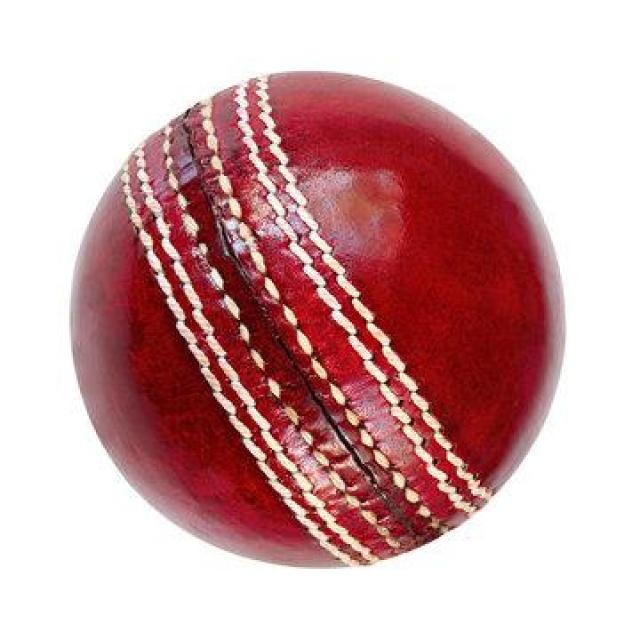ball: (73, 71, 565, 573)
